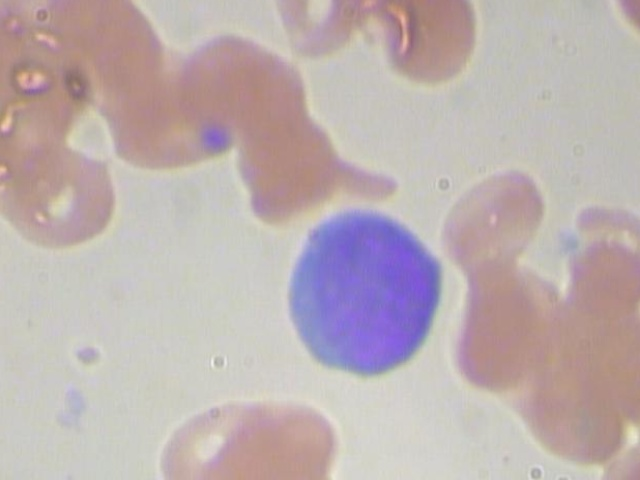RBC: (433, 157, 548, 273), (4, 136, 119, 252), (146, 392, 282, 480)
WBC: (268, 198, 451, 382)
